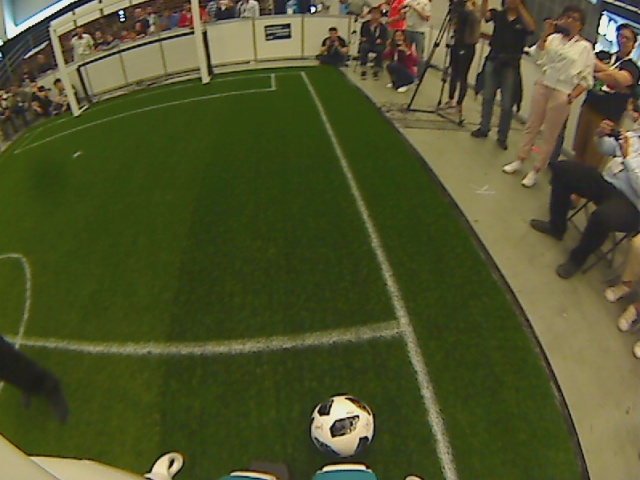ball: (305, 393, 375, 461)
